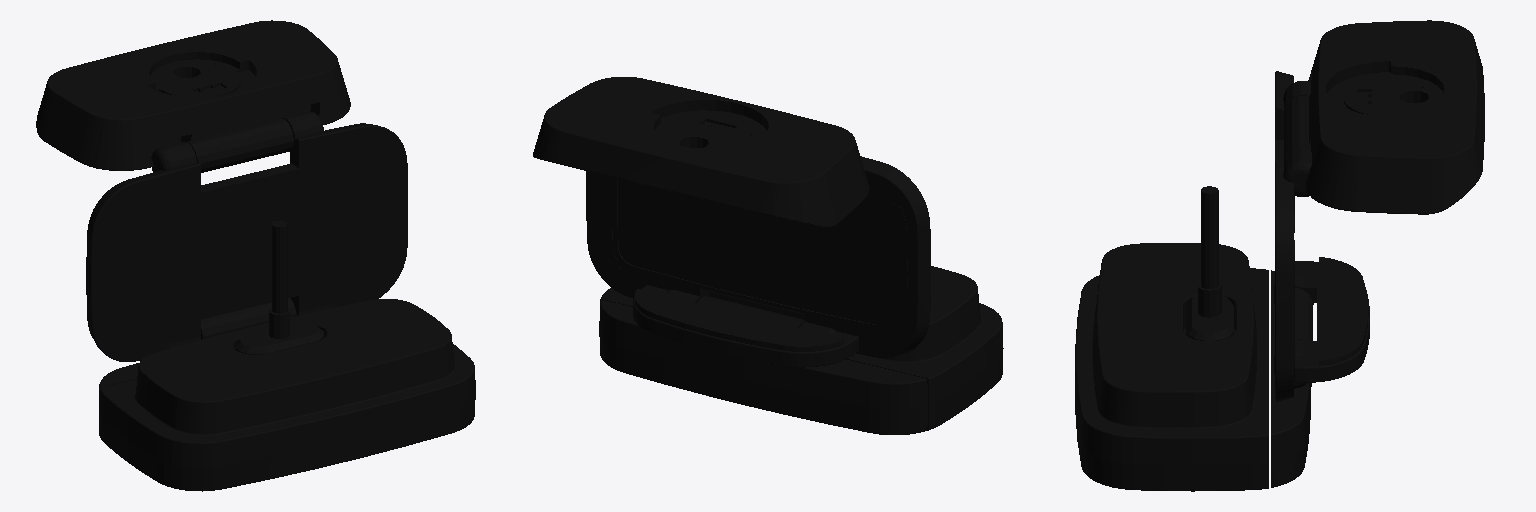
The robot description file, URDF, robot "camera":
<?xml version="1.0" encoding="utf-8"?>
<!-- This URDF was automatically created by SolidWorks to URDF Exporter! Originally created by Stephen Brawner (brawner@gmail.com) 
     Commit Version: 1.6.0-4-g7f85cfe  Build Version: 1.6.7995.38578
     For more information, please see http://wiki.ros.org/sw_urdf_exporter -->
<robot
  name="camera">
  
  <link name="world"/>
  
  
  
  <joint name="base_joint" type="fixed">
	<parent link="world"/>
	<child link="base_link"/>
	<origin rpy="3.141592 0 0" xyz="0.0 0.0 1.4"/>
  </joint>  
  
  <link
    name="base_link">
    <inertial>
      <origin
        xyz="1.31705403197575E-06 -0.0126651020605476 0.0216048537264026"
        rpy="0 0 0" />
      <mass
        value="0.0578534500150547" />
      <inertia
        ixx="5.36128455572792E-06"
        ixy="3.53007429843158E-11"
        ixz="5.44894757786953E-10"
        iyy="1.98668674606003E-05"
        iyz="-4.97152021928456E-08"
        izz="2.11516339006219E-05" />
    </inertial>
    <visual>
      <origin
        xyz="0 0 0"
        rpy="0 0 0" />
      <geometry>
        <mesh
          filename="package://camera/meshes/base_link.STL" />
      </geometry>
      <material
        name="">
        <color
          rgba="0.0980392156862745 0.0980392156862745 0.0980392156862745 1" />
      </material>
    </visual>
    <collision>
      <origin
        xyz="0 0 0"
        rpy="0 0 0" />
      <geometry>
        <mesh
          filename="package://camera/meshes/base_link.STL" />
      </geometry>
    </collision>
  </link>
</robot>

--- What the picture shows (computed from the rendered views, not written in the file) ---
3 views of the same robot in one strip: view 1: azimuth 30°, elevation 25°; view 2: azimuth 150°, elevation 25°; view 3: azimuth 270°, elevation 25° (orthographic).
Model camera with 2 links and 1 joints (1 fixed), rooted at world, posed every joint at zero.
Visible links, largest first — view 1: base_link; view 2: base_link; view 3: base_link.
Link boxes in pixels (x1=…): base_link: x1=36, y1=20, x2=475, y2=491; base_link: x1=533, y1=77, x2=1003, y2=434; base_link: x1=1075, y1=20, x2=1484, y2=491.
Size in the robot's own frame: 0.0682 by 0.0688 by 0.0587 metres.
1 mesh visuals loaded from 1 distinct referenced files (1 binary STL).
